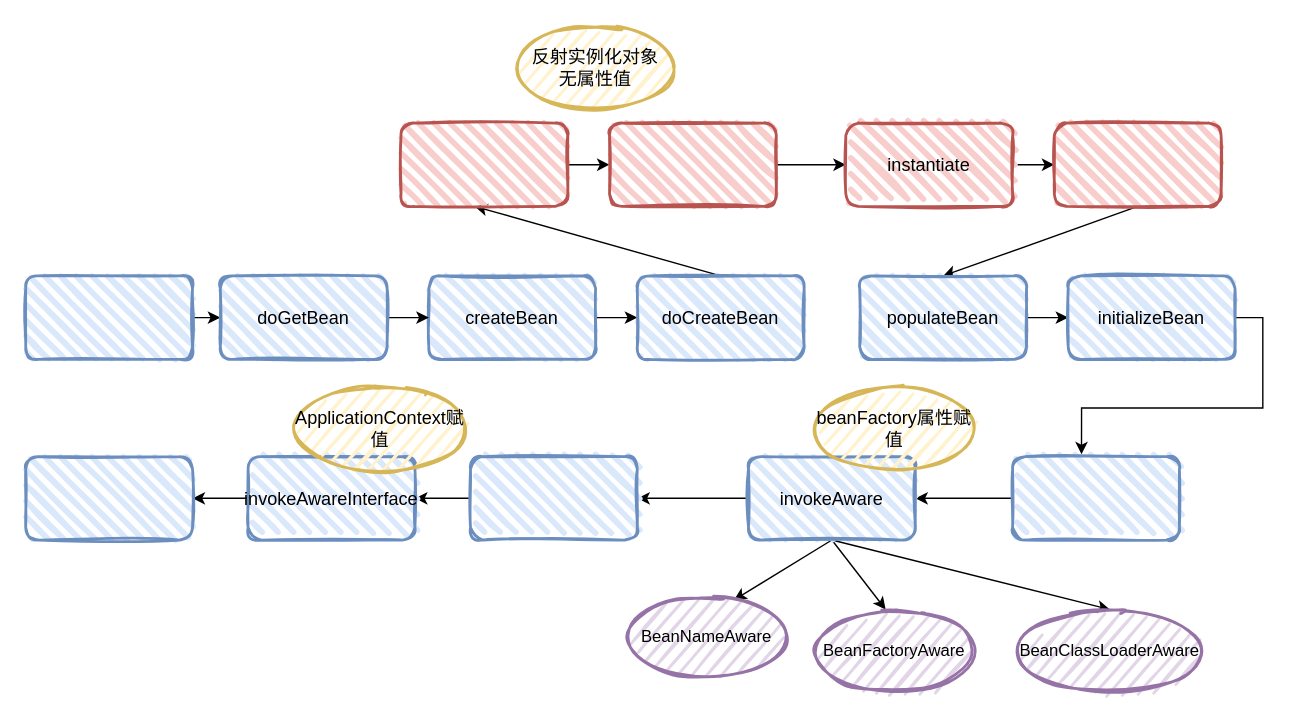
Some shapes in this 1298 by 717 pixel diagram are drawn without their labels. The shapes that lost their labels are listed below. From the top down, each one's centre as x and y in pixels, then its label:
pixel 484 164: createBeanInstance
pixel 692 164: instantiateBean
pixel 1137 164: instantiateClass
pixel 108 317: getBean
pixel 108 498: after后置处理器
pixel 553 498: before后置处理器
pixel 1095 498: invokeAwareMethods
